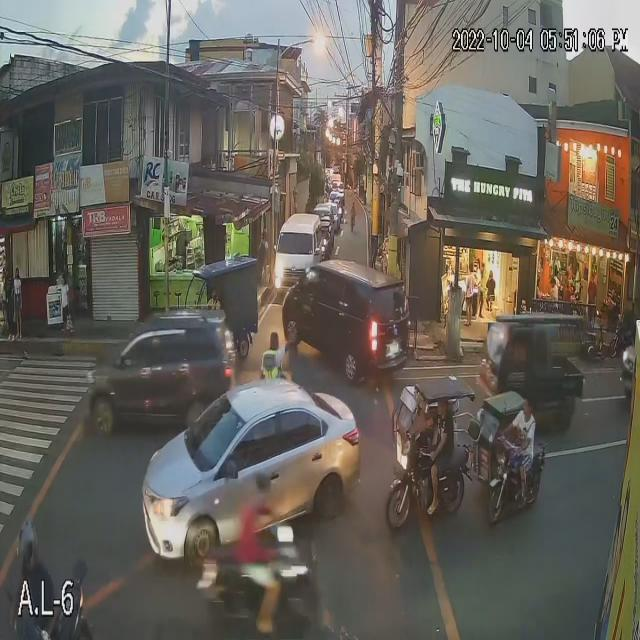helmet: (16, 528, 48, 560)
motorcycle: (215, 559, 314, 628)
rider: (238, 515, 290, 591), (18, 566, 48, 636)
